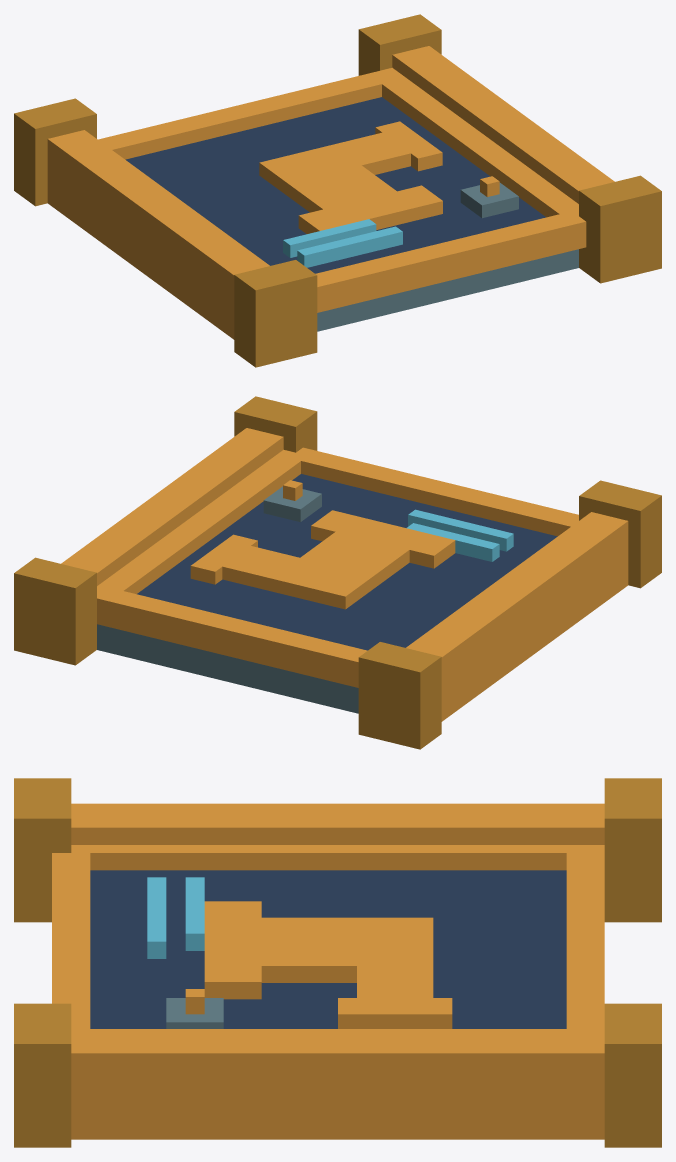
Rendered from voxel_32_70108.glb.
The picture shows the model from 3 angles, top to bottom: view 1: azimuth 30°, elevation 25°; view 2: azimuth 150°, elevation 25°; view 3: azimuth 270°, elevation 25°; orthographic projection. The views are drawn at different scales.
Visible parts, largest first — view 1: prop_70108; view 2: prop_70108; view 3: prop_70108.
Boxes of the visible parts, x1=… form: prop_70108: x1=14, y1=14, x2=661, y2=367; prop_70108: x1=14, y1=396, x2=661, y2=749; prop_70108: x1=14, y1=778, x2=661, y2=1147.
Bounding box in the file's own units: 0.8056 × 0.1465 × 0.83.
